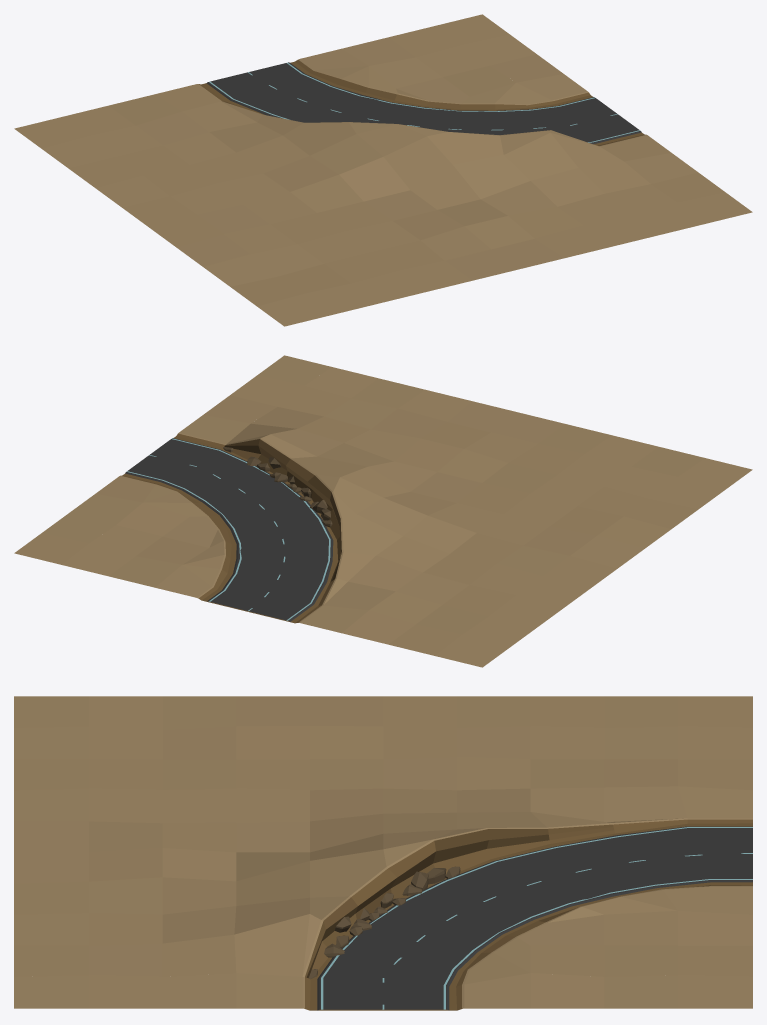
The model's file is model_road_dirt_cornor_2.fbx.
The picture shows the model from 3 angles, top to bottom: view 1: azimuth 30°, elevation 25°; view 2: azimuth 150°, elevation 25°; view 3: azimuth 270°, elevation 25°; orthographic projection. The views are drawn at different scales.
Visible parts, largest first — view 1: model_road_dirt_cornor_2; view 2: model_road_dirt_cornor_2; view 3: model_road_dirt_cornor_2.
Boxes of the visible parts, x1,y1,x2,y2 form: model_road_dirt_cornor_2: (14,14,752,326); model_road_dirt_cornor_2: (14,355,752,667); model_road_dirt_cornor_2: (14,696,752,1010).
Bounding box in the file's own units: 6162 × 421 × 6162.
Materials: 1 (1 with a texture image).
